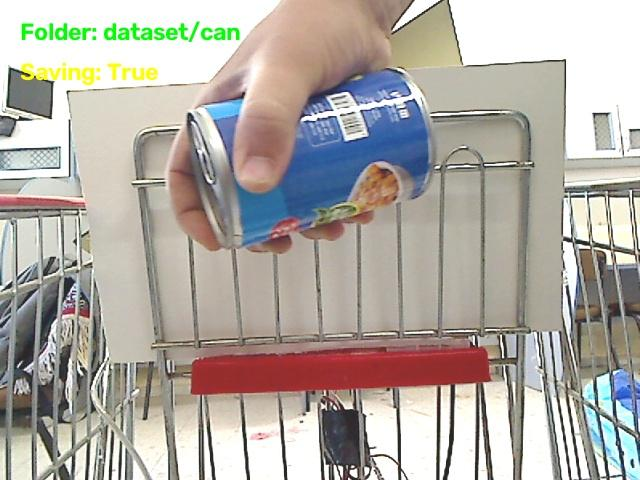can: (187, 69, 432, 247)
